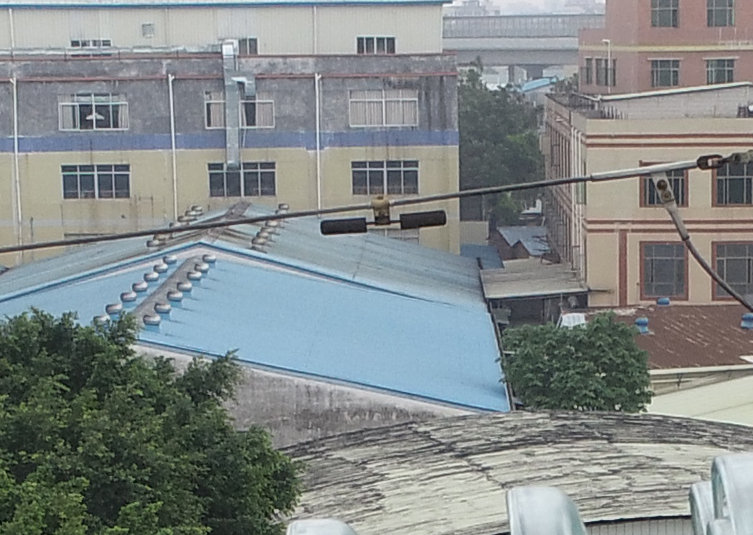damper: (316, 193, 449, 238)
